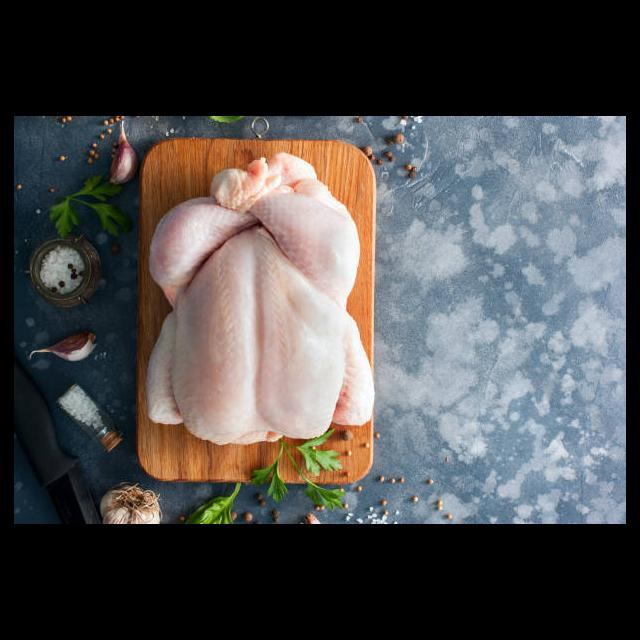chicken: (144, 154, 379, 445)
